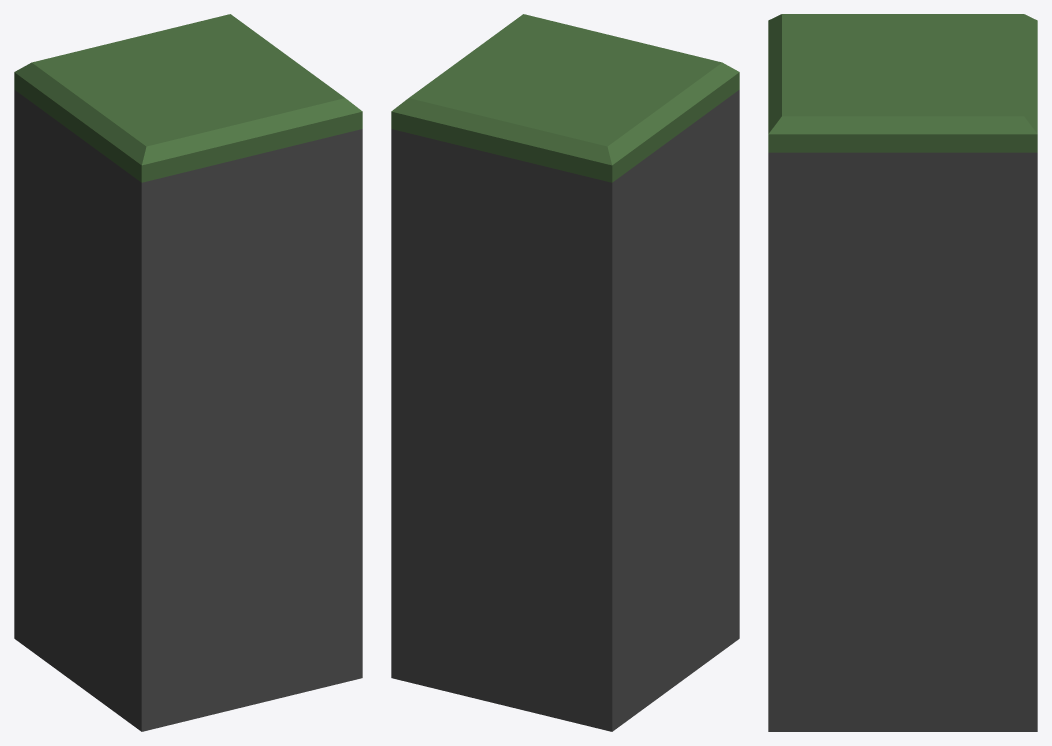
File: Tile1.fbx
The picture shows the model from 3 angles, left to right: view 1: azimuth 30°, elevation 25°; view 2: azimuth 150°, elevation 25°; view 3: azimuth 270°, elevation 25°; orthographic projection. The views are drawn at different scales.
Visible parts, largest first — view 1: Cube; view 2: Cube; view 3: Cube.
Boxes of the visible parts, bbox=[...] form: Cube: bbox=[14, 14, 362, 731]; Cube: bbox=[391, 14, 739, 731]; Cube: bbox=[768, 14, 1037, 731].
Bounding box in the file's own units: 2 × 5 × 2.
